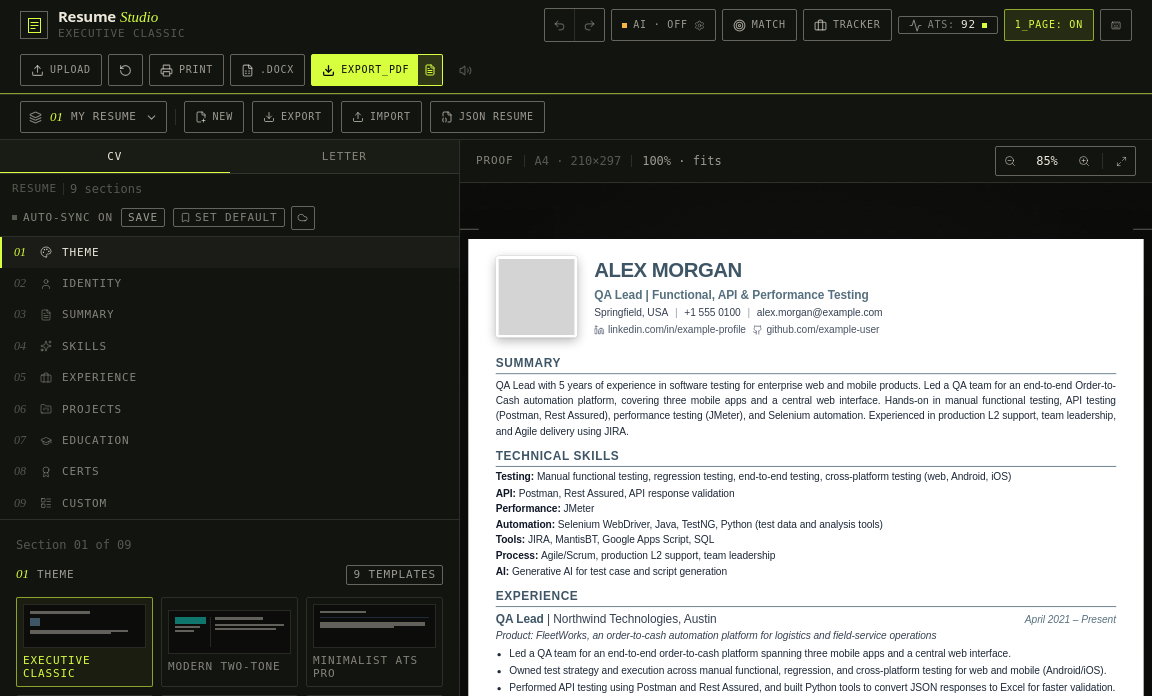
Test: command palette in the real App › filters as the user types
Press k
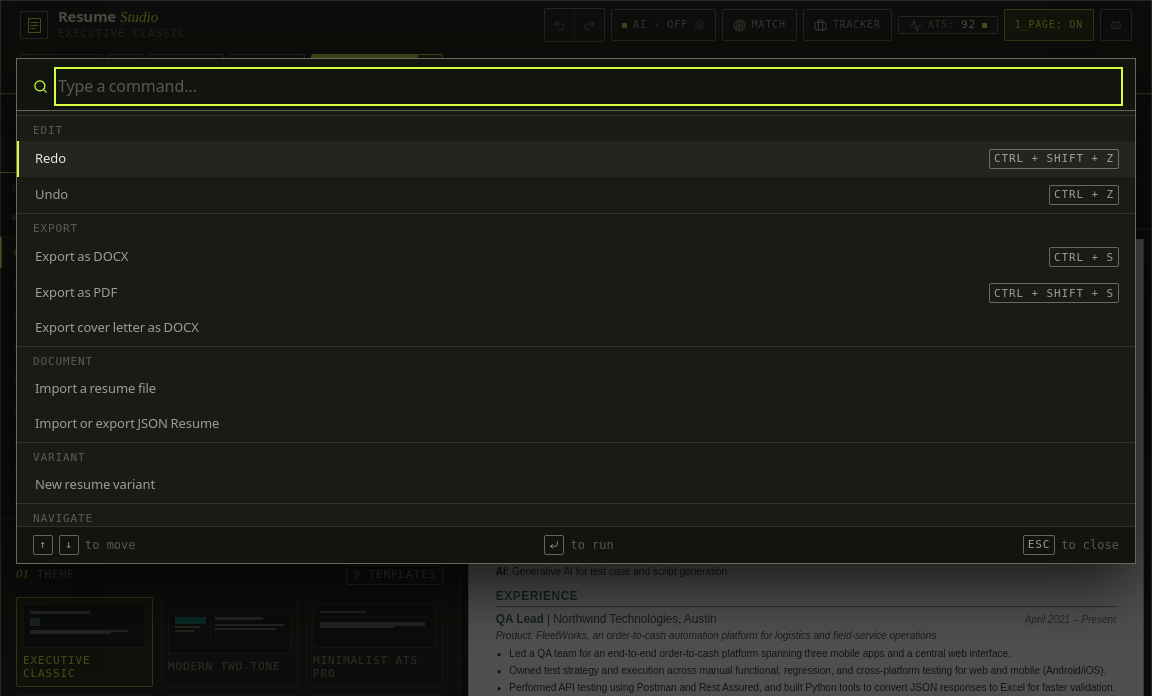
Type "tracker" into the dropdown named "search commands" at (588,86), box [58,71,1119,102]
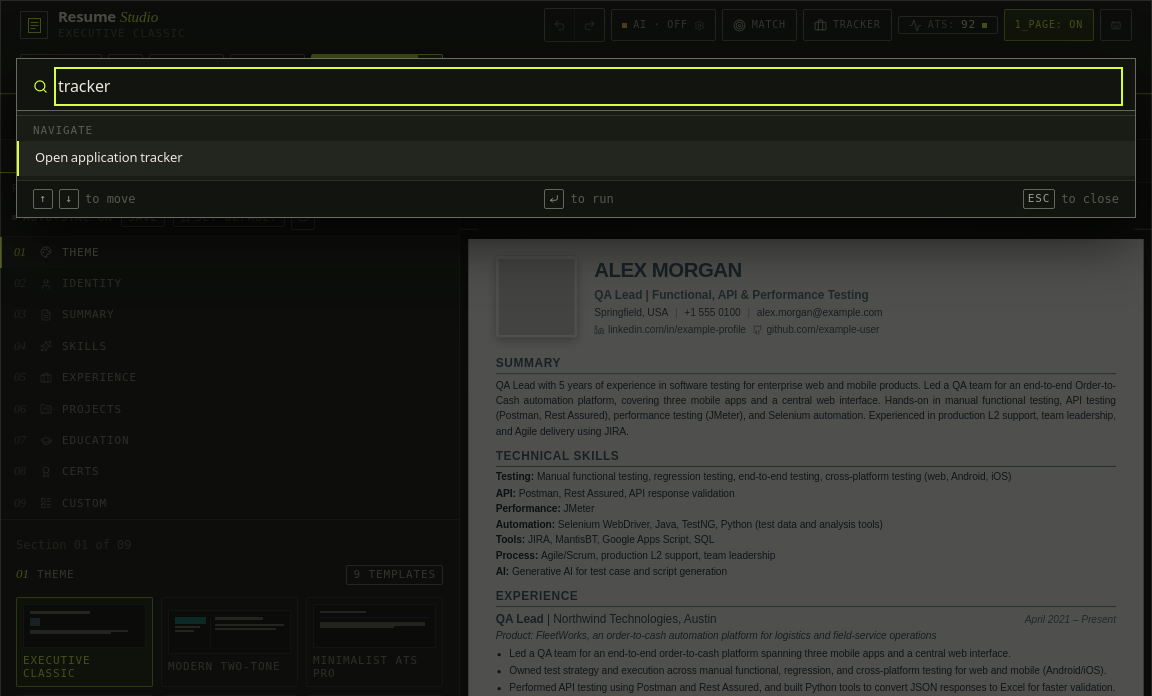
Expected: the text "Open application tracker" is shown, [35,149,183,168]
Expected: the button "New resume variant" is gone
